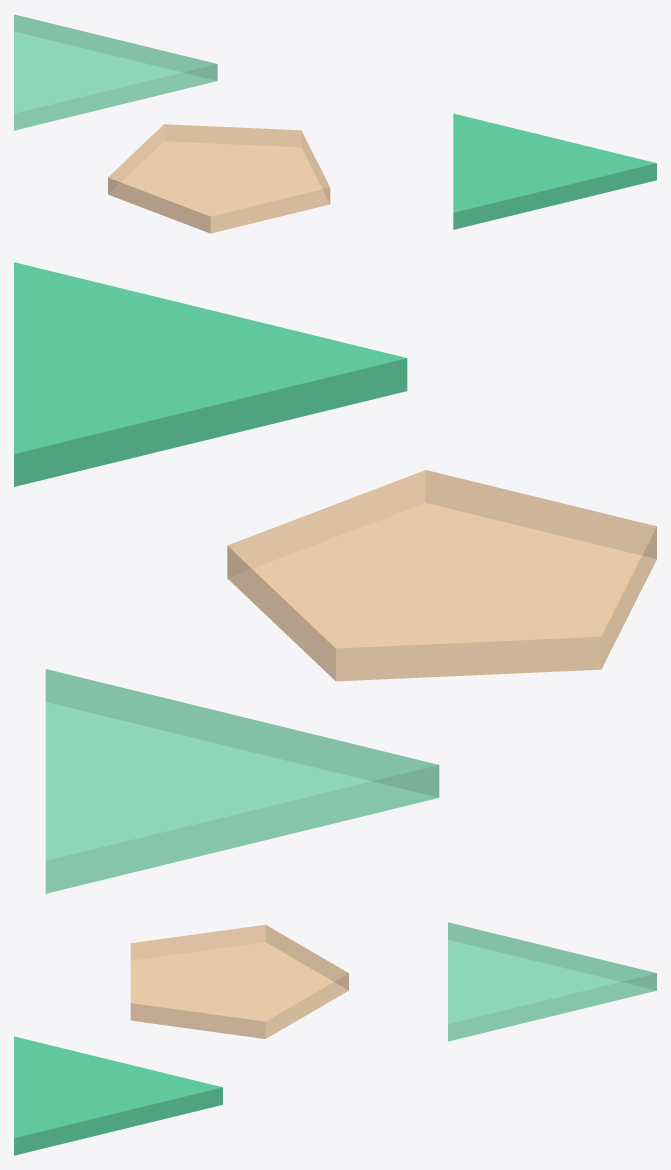
The model's file is fiore_step4.glb.
The picture shows the model from 3 angles, top to bottom: view 1: azimuth 30°, elevation 25°; view 2: azimuth 150°, elevation 25°; view 3: azimuth 270°, elevation 25°; orthographic projection. The views are drawn at different scales.
Parts seen in each view (by area): view 1: pentagono, triangolo_equilatero.001, triangolo_equilatero; view 2: pentagono, triangolo_equilatero, triangolo_equilatero.001; view 3: pentagono, triangolo_equilatero, triangolo_equilatero.001.
Boxes of the visible parts, x1,y1,x2,y2 form: pentagono: (108,124,330,233); triangolo_equilatero.001: (453,113,656,229); triangolo_equilatero: (14,14,217,130); pentagono: (227,470,656,681); triangolo_equilatero: (45,669,439,893); triangolo_equilatero.001: (14,262,407,486); pentagono: (130,924,348,1038); triangolo_equilatero: (448,922,656,1041); triangolo_equilatero.001: (14,1036,222,1155).
Bounding box in the file's own units: 2.12 × 0.08 × 2.67.
